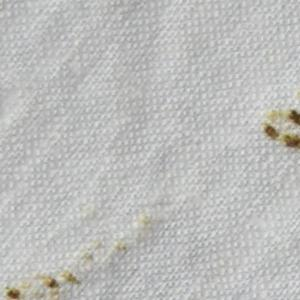Oil Stain: (1, 213, 157, 300), (256, 91, 300, 152)
